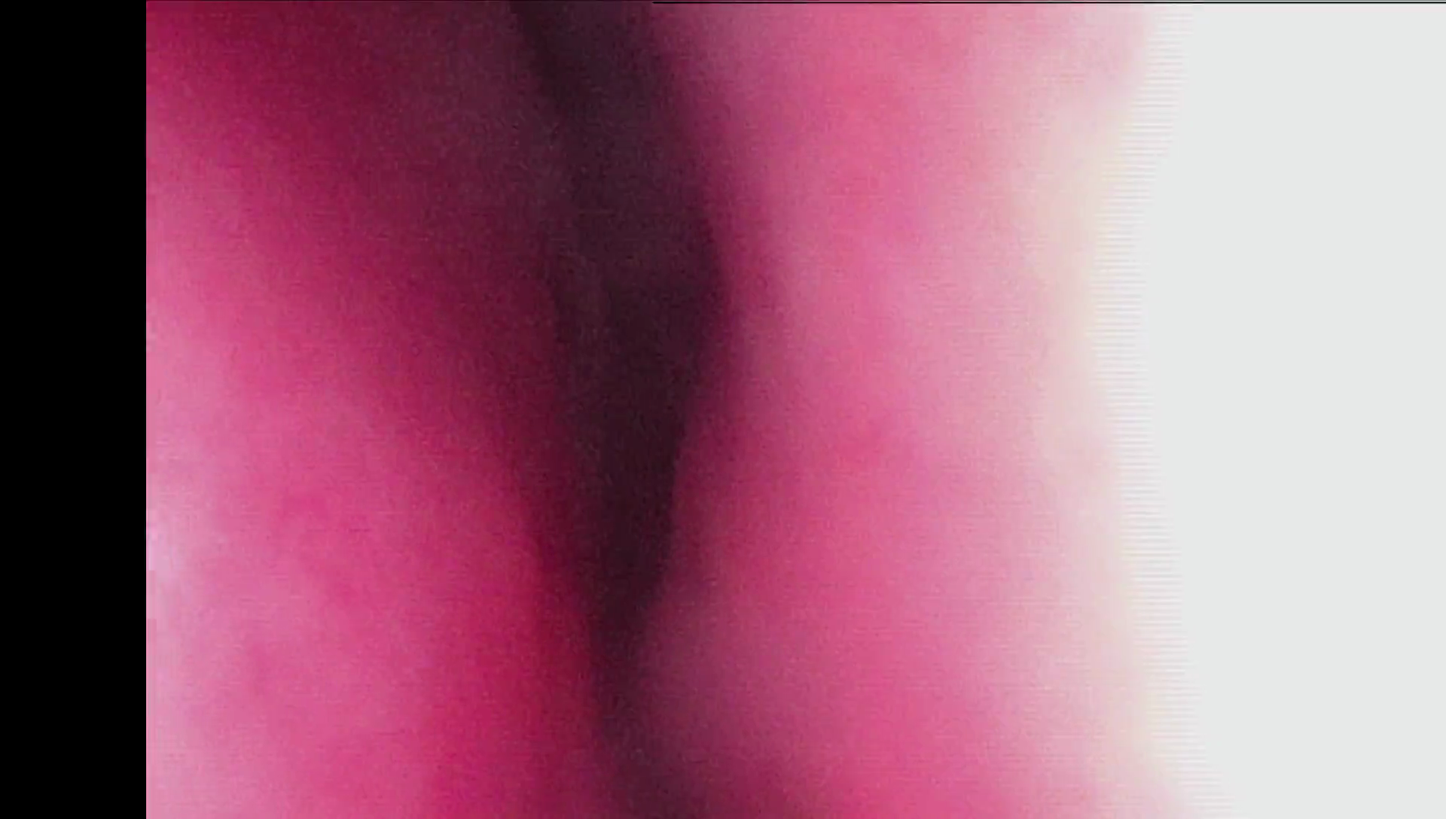close_wall: (819, 10, 1446, 819), (149, 302, 457, 819)
next: (508, 174, 739, 735)
